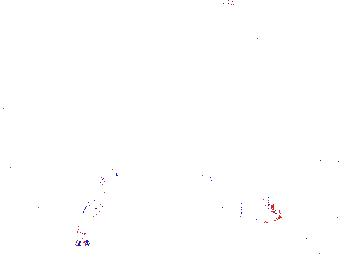X-ray fish: (221, 190, 277, 220)
glassfish: (73, 153, 129, 246), (193, 130, 266, 189)
red belly glassfish: (253, 25, 301, 44)
redtail glassfish: (174, 1, 241, 17)
